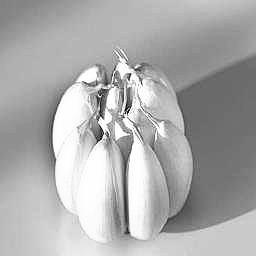bukan telur: (54, 55, 194, 240)
